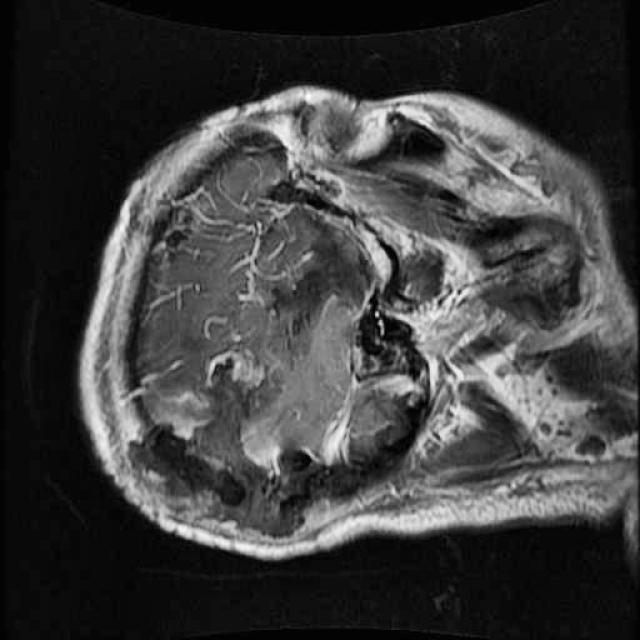Non-Tumor: (124, 339, 343, 561)
